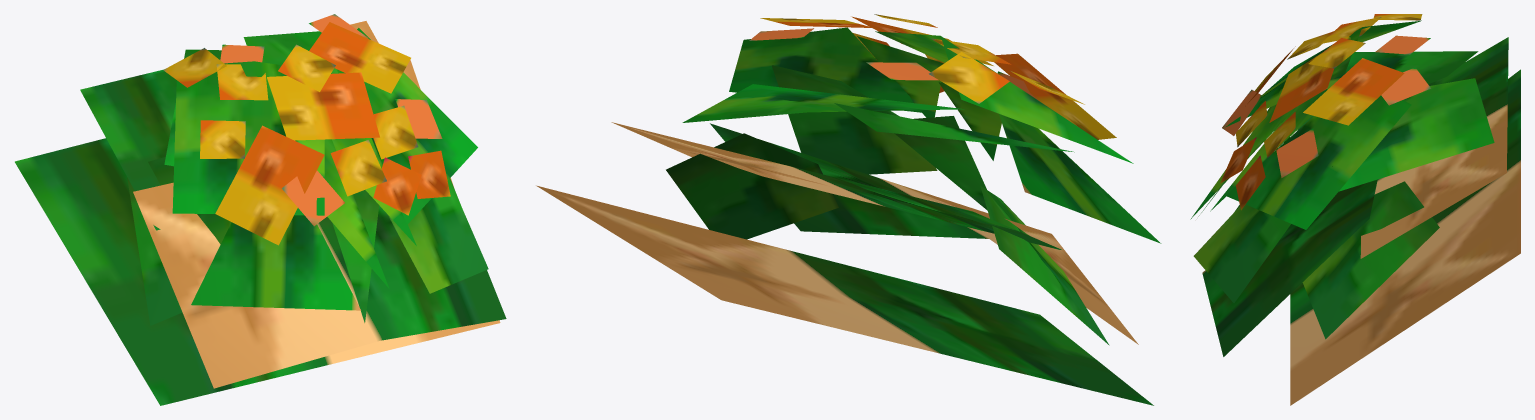
The model's file is fg_bushE_2.dae.
3 views of the same model, side by side, from view 1: azimuth 30°, elevation 25°; view 2: azimuth 150°, elevation 25°; view 3: azimuth 270°, elevation 25° (orthographic). The views are drawn at different scales.
Visible parts, largest first — view 1: fg_bushE_2; view 2: fg_bushE_2; view 3: fg_bushE_2.
Boxes of the visible parts, left/top/right/bottom form: fg_bushE_2: left=15, top=14, right=506, bottom=405; fg_bushE_2: left=536, top=14, right=1161, bottom=405; fg_bushE_2: left=1190, top=14, right=1520, bottom=405.
Bounding box in the file's own units: 50.84 × 35.63 × 37.63.
1 material, 1 textured.
